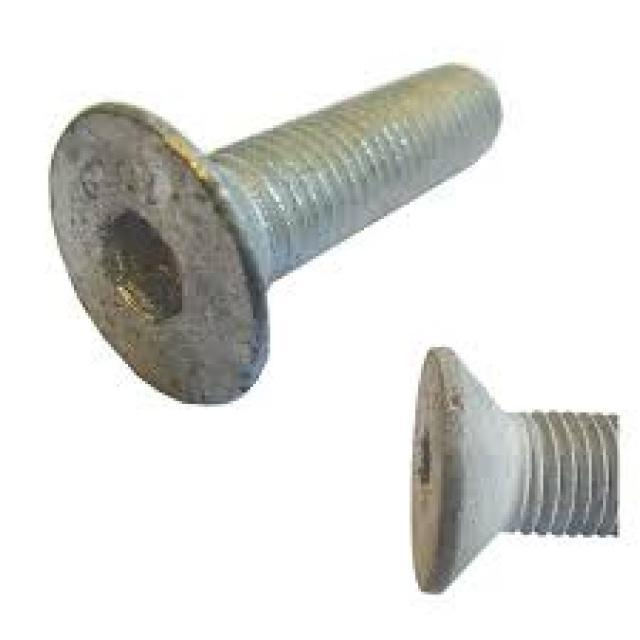Screw: (51, 63, 501, 404), (410, 347, 623, 594)
